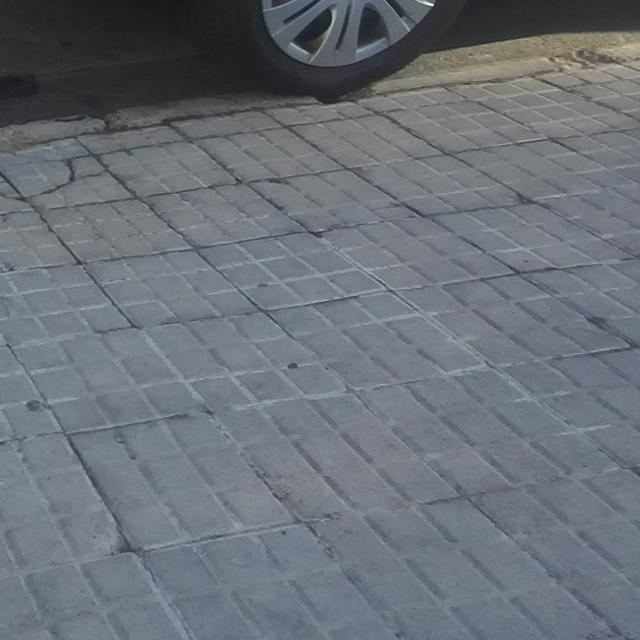calcada_quebrada: (0, 157, 110, 205), (508, 185, 562, 224)
